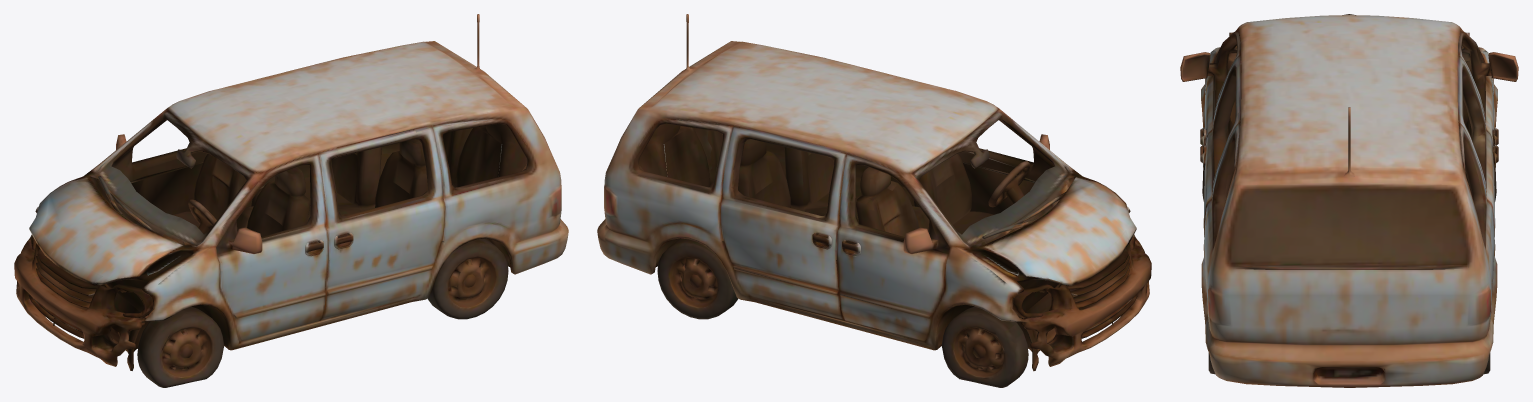
The model's file is crashed_rusty_minivan_f872ff37_v2.glb.
3 views of the same model, side by side, from view 1: azimuth 30°, elevation 25°; view 2: azimuth 150°, elevation 25°; view 3: azimuth 270°, elevation 25° (orthographic). The views are drawn at different scales.
Visible parts, largest first — view 1: material; view 2: material; view 3: material.
Boxes of the visible parts, bbox=[...] form: material: bbox=[14, 14, 568, 387]; material: bbox=[597, 14, 1151, 387]; material: bbox=[1180, 14, 1518, 387].
Bounding box in the file's own units: 1.9 × 0.9334 × 0.9588.
1 material, 1 textured.
